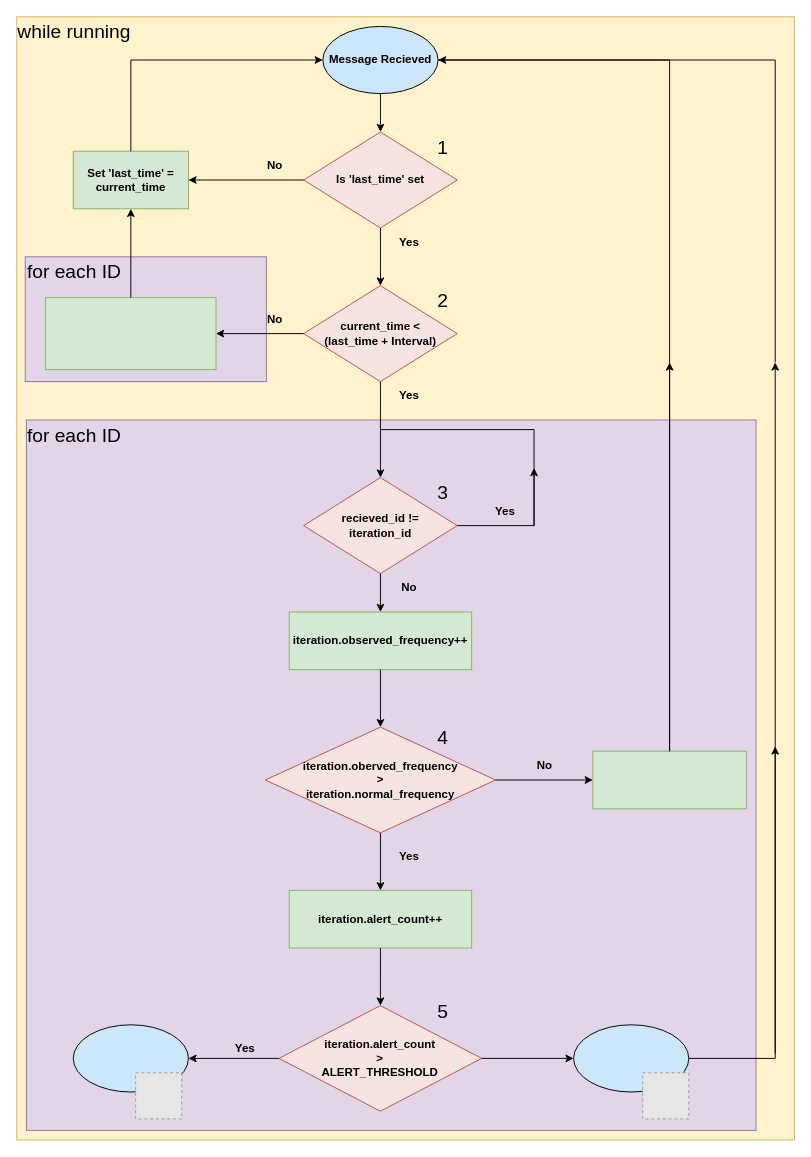
This 811x1157 diagram has some shape labels left out. Grey dashed boxes stand in for pictures. Here are the shapes that lost their labels. From the top down, the centre of each, then its label:
At [130,333]: "Reset 'iteration.observed_frequency' 'iteration.alert_count' to 0".
At [669,779]: "iteration.alert_count = 0".
At [130,1058]: "ALERT".
At [631,1058]: "Safe / No alert".
